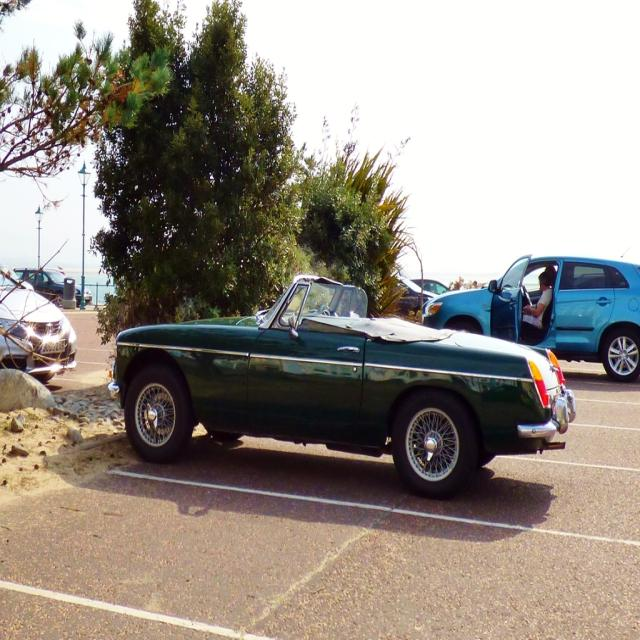car: (109, 272, 578, 499)
